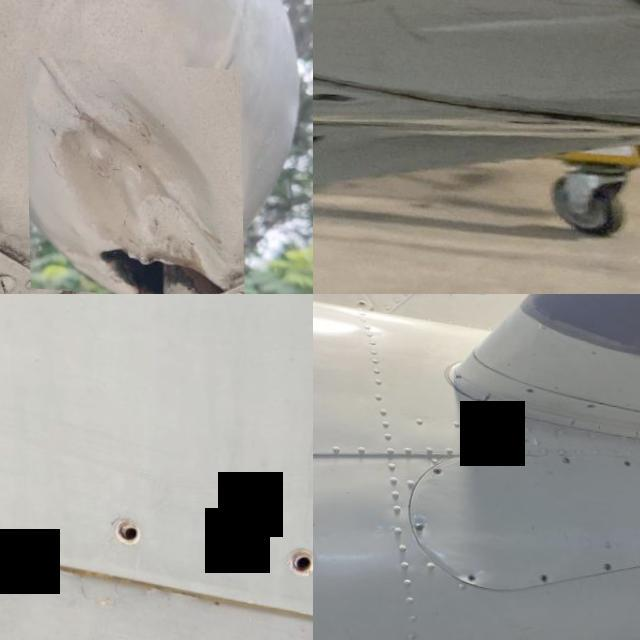Dent: (24, 53, 242, 294)
Missing_Fastener: (96, 496, 156, 560), (272, 528, 313, 586), (463, 570, 478, 581), (536, 569, 550, 580), (356, 297, 370, 306), (430, 465, 442, 473), (622, 454, 632, 462), (584, 398, 596, 403), (524, 384, 534, 389)
